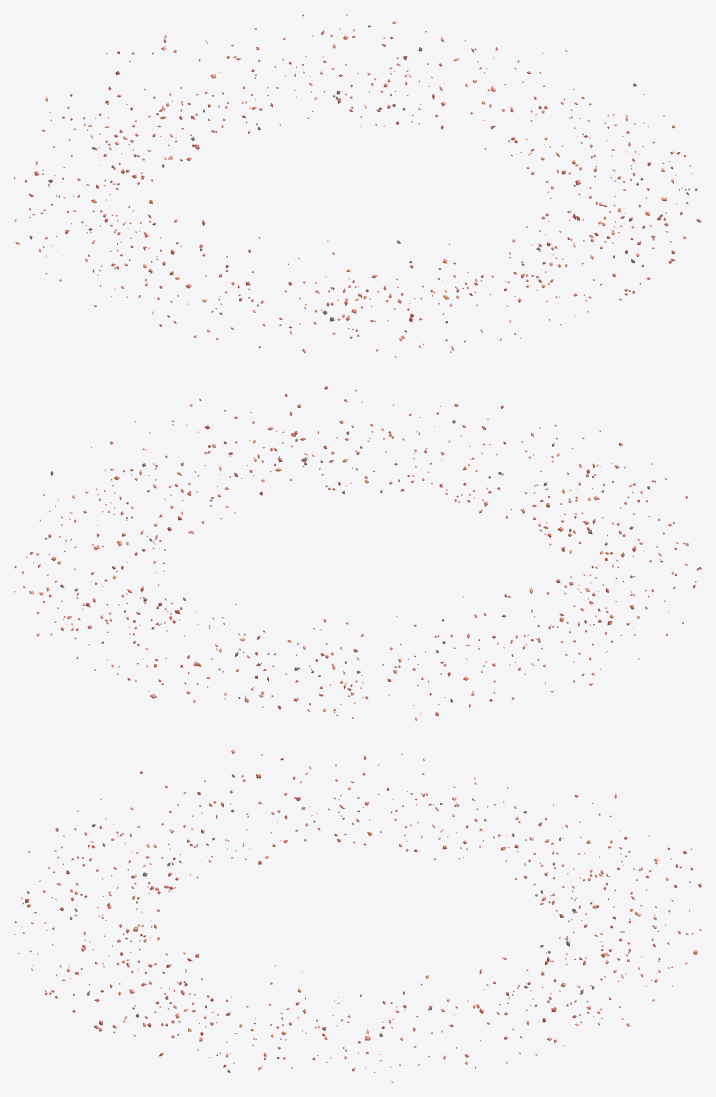
The model's file is devil_spray.glb.
3 renders of one model, top to bottom at view 1: azimuth 30°, elevation 25°; view 2: azimuth 150°, elevation 25°; view 3: azimuth 270°, elevation 25°, orthographic.
Visible parts, largest first — view 1: devil_spray; view 2: devil_spray; view 3: devil_spray.
Part boxes in pixels (x1,y1,x2,y2): devil_spray: [14, 14, 701, 357]; devil_spray: [14, 386, 701, 720]; devil_spray: [14, 749, 701, 1082].
Size of the model in its own units: 9.16 by 0.9699 by 9.15.
Materials: 1 (1 with a texture image).
